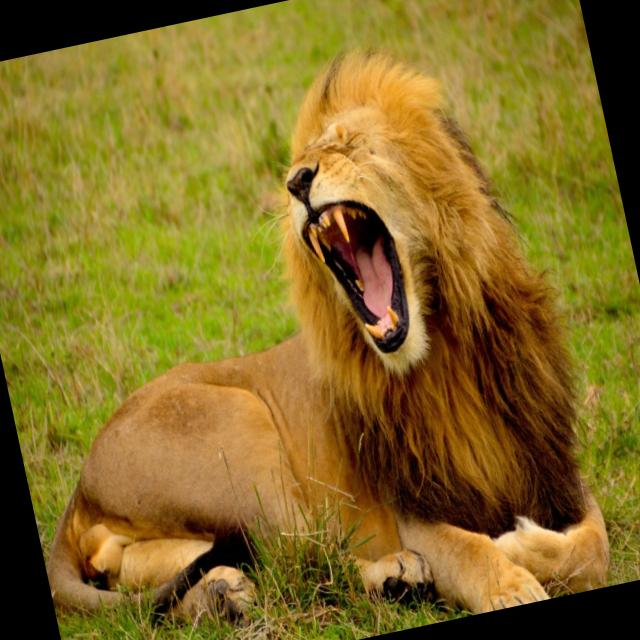lion: (69, 0, 620, 640)
